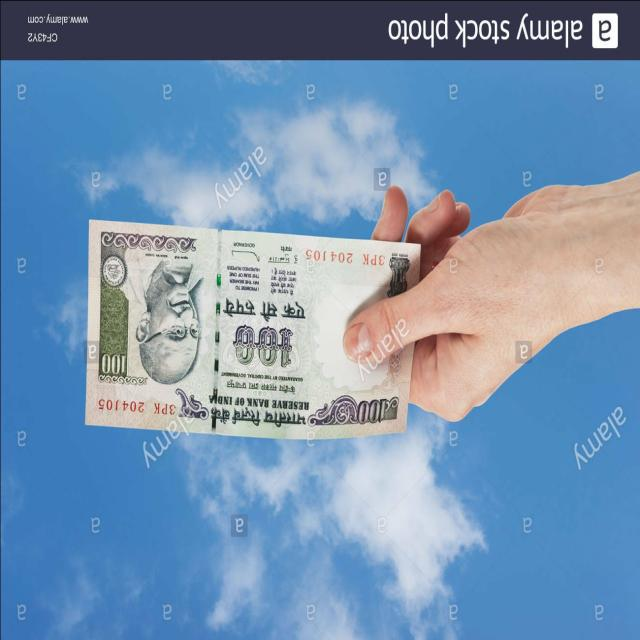100IndianRupees: (85, 217, 411, 438)
